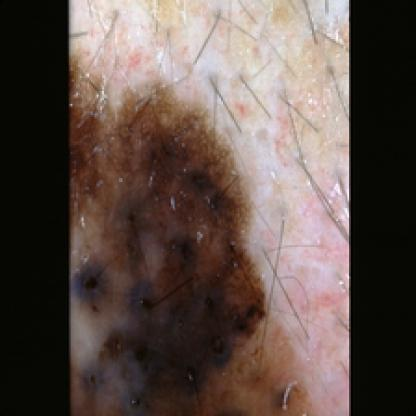malignant: (80, 147, 265, 392)
